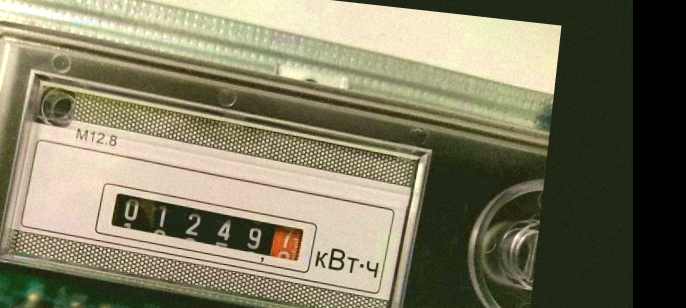0: (121, 195, 141, 223)
1: (153, 202, 170, 229)
2: (182, 211, 202, 239)
4: (215, 216, 234, 242)
7: (278, 224, 296, 251)
9: (243, 224, 263, 251)
screen: (91, 180, 321, 277)
